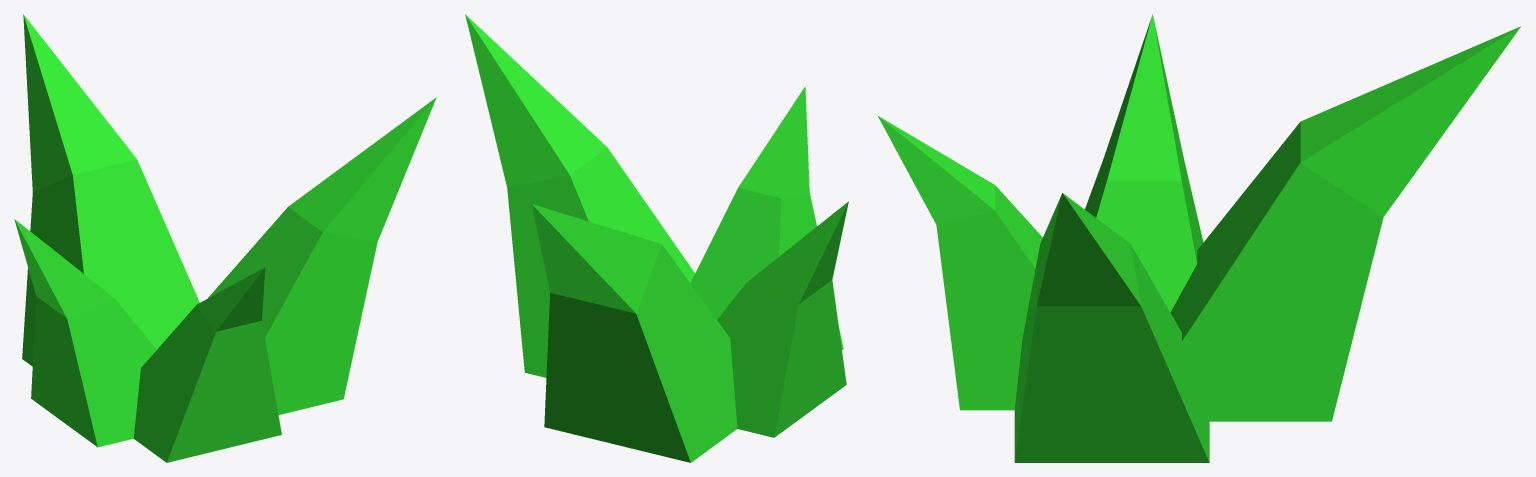
Rendered from Grass.fbx.
The picture shows the model from 3 angles, left to right: view 1: azimuth 30°, elevation 25°; view 2: azimuth 150°, elevation 25°; view 3: azimuth 270°, elevation 25°; orthographic projection. The views are drawn at different scales.
Visible parts, largest first — view 1: Grass; view 2: Grass; view 3: Grass.
Boxes of the visible parts, left/top/right/bottom form: Grass: left=14, top=14, right=436, bottom=462; Grass: left=465, top=14, right=848, bottom=462; Grass: left=877, top=14, right=1520, bottom=462.
Bounding box in the file's own units: 225 × 204 × 138.
